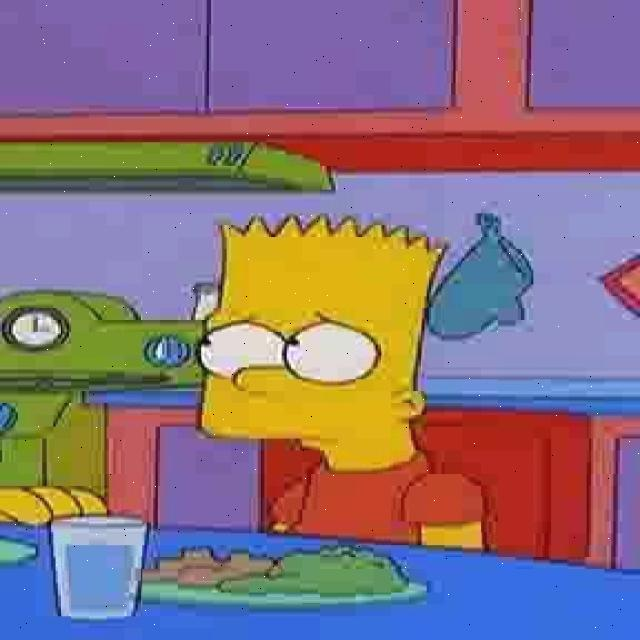Bart Simpson: (194, 212, 450, 476)
